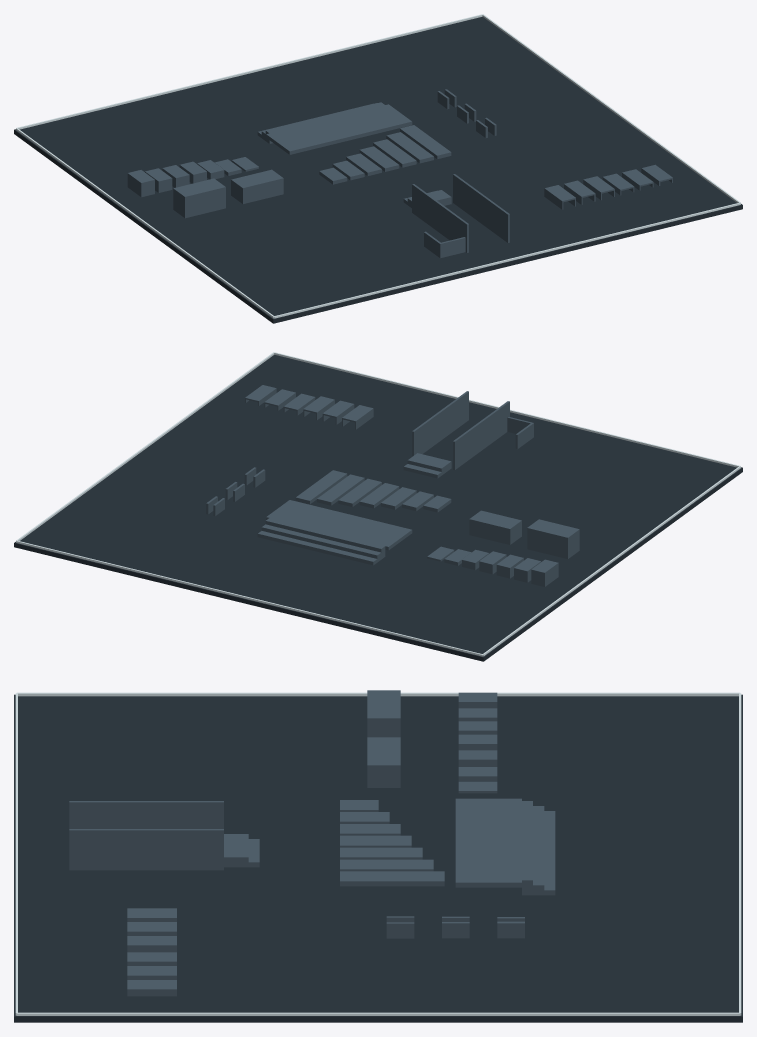
3 views of the same model, one above another, from view 1: azimuth 30°, elevation 25°; view 2: azimuth 150°, elevation 25°; view 3: azimuth 270°, elevation 25° (orthographic). The views are drawn at different scales.
Parts seen in each view (by area): view 1: DL_COL_Foundation_立方体.364, DL_COL_GapLaunch_立方体.485, DL_COL_WallRun_L_立方体.597, DL_COL_WallRun_R_立方体.611, DL_COL_Mantle_6.0_立方体.549, DL_COL_PerimeterCurb.003_立方体.425, DL_COL_PerimeterCurb.002_立方体.423, DL_COL_Mantle_4.5_立方体.547, DL_COL_PerimeterCurb.001_立方体.421, DL_COL_PerimeterCurb_立方体.419, DL_COL_GapLanding_2m_立方体.493, DL_COL_GapLanding_4m_立方体.497 (+4 smaller); view 2: DL_COL_Foundation_立方体.364, DL_COL_GapLaunch_立方体.485, DL_COL_WallRun_R_立方体.611, DL_COL_WallRun_L_立方体.597, DL_COL_Mantle_6.0_立方体.549, DL_COL_PerimeterCurb.002_立方体.423, DL_COL_PerimeterCurb.003_立方体.425, DL_COL_Mantle_4.5_立方体.547, DL_COL_LaunchStep_2_立方体.491, DL_COL_PerimeterCurb.001_立方体.421, DL_COL_LaunchStep_1_立方体.489, DL_COL_PerimeterCurb_立方体.419 (+7 smaller); view 3: DL_COL_Foundation_立方体.364, DL_COL_WallRun_L_立方体.597, DL_COL_GapLaunch_立方体.485, DL_COL_WallRun_R_立方体.611, DL_COL_PerimeterCurb.001_立方体.421, DL_COL_PerimeterCurb_立方体.419, DL_COL_Mantle_4.5_立方体.547, DL_COL_GapLanding_2m_立方体.493, DL_COL_Mantle_6.0_立方体.549, DL_COL_GapLanding_4m_立方体.497, DL_COL_LaunchStep_1_立方体.489, DL_COL_GapLanding_6m_立方体.501 (+14 smaller).
Boxes of the visible parts, x1=… form: DL_COL_Foundation_立方体.364: x1=14, y1=16, x2=742, y2=323; DL_COL_GapLaunch_立方体.485: x1=266, y1=104, x2=412, y2=154; DL_COL_WallRun_L_立方体.597: x1=453, y1=174, x2=509, y2=242; DL_COL_WallRun_R_立方体.611: x1=412, y1=184, x2=468, y2=252; DL_COL_Mantle_6.0_立方体.549: x1=173, y1=178, x2=225, y2=218; DL_COL_PerimeterCurb.003_立方体.425: x1=274, y1=203, x2=740, y2=318; DL_COL_PerimeterCurb.002_立方体.423: x1=16, y1=14, x2=482, y2=129; DL_COL_Mantle_4.5_立方体.547: x1=231, y1=169, x2=283, y2=203; DL_COL_PerimeterCurb.001_立方体.421: x1=16, y1=128, x2=274, y2=318; DL_COL_PerimeterCurb_立方体.419: x1=482, y1=14, x2=740, y2=204; DL_COL_GapLanding_2m_立方体.493: x1=400, y1=125, x2=451, y2=159; DL_COL_GapLanding_4m_立方体.497: x1=386, y1=132, x2=433, y2=163; DL_COL_Foundation_立方体.364: x1=14, y1=354, x2=742, y2=661; DL_COL_GapLaunch_立方体.485: x1=266, y1=500, x2=412, y2=550; DL_COL_WallRun_R_立方体.611: x1=453, y1=401, x2=509, y2=470; DL_COL_WallRun_L_立方体.597: x1=412, y1=391, x2=468, y2=456; DL_COL_Mantle_6.0_立方体.549: x1=527, y1=519, x2=579, y2=558; DL_COL_PerimeterCurb.002_立方体.423: x1=16, y1=540, x2=482, y2=656; DL_COL_PerimeterCurb.003_立方体.425: x1=274, y1=352, x2=740, y2=467; DL_COL_Mantle_4.5_立方体.547: x1=469, y1=510, x2=521, y2=544; DL_COL_LaunchStep_2_立方体.491: x1=265, y1=518, x2=385, y2=559; DL_COL_PerimeterCurb.001_立方体.421: x1=482, y1=466, x2=740, y2=656; DL_COL_LaunchStep_1_立方体.489: x1=261, y1=524, x2=381, y2=562; DL_COL_PerimeterCurb_立方体.419: x1=16, y1=352, x2=274, y2=542; DL_COL_Foundation_立方体.364: x1=14, y1=694, x2=742, y2=1022; DL_COL_WallRun_L_立方体.597: x1=69, y1=829, x2=223, y2=870; DL_COL_GapLaunch_立方体.485: x1=455, y1=798, x2=521, y2=887; DL_COL_WallRun_R_立方体.611: x1=69, y1=801, x2=223, y2=828; DL_COL_PerimeterCurb.001_立方体.421: x1=16, y1=692, x2=740, y2=696; DL_COL_PerimeterCurb_立方体.419: x1=16, y1=1012, x2=740, y2=1015; DL_COL_Mantle_4.5_立方体.547: x1=367, y1=737, x2=400, y2=787; DL_COL_GapLanding_2m_立方体.493: x1=340, y1=871, x2=444, y2=886; DL_COL_Mantle_6.0_立方体.549: x1=367, y1=690, x2=400, y2=737; DL_COL_GapLanding_4m_立方体.497: x1=340, y1=859, x2=433, y2=871; DL_COL_LaunchStep_1_立方体.489: x1=533, y1=806, x2=544, y2=895; DL_COL_GapLanding_6m_立方体.501: x1=340, y1=847, x2=422, y2=859.
Bounding box in the file's own units: 138 × 9.2 × 132.
Materials: 3 (3 with a texture image).
